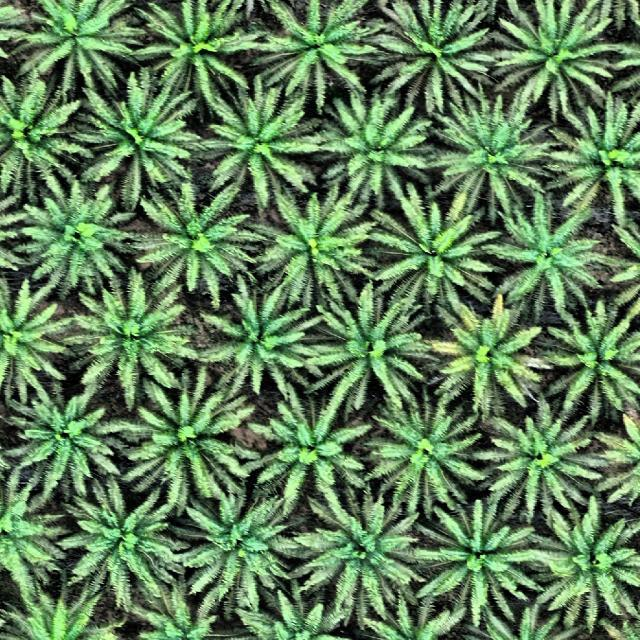Kelapa_Sawit: (426, 498, 546, 619), (72, 479, 183, 604), (75, 276, 189, 397), (253, 397, 370, 512), (166, 498, 290, 604), (486, 192, 597, 310), (316, 294, 432, 406), (133, 383, 244, 500), (148, 3, 258, 108), (214, 94, 320, 202), (438, 102, 544, 210), (308, 502, 418, 606), (383, 198, 486, 308), (539, 508, 640, 620), (508, 3, 612, 111), (394, 4, 497, 112), (153, 190, 256, 294), (264, 192, 367, 296), (323, 97, 425, 200), (30, 2, 136, 98), (272, 0, 372, 100), (31, 189, 130, 289), (500, 416, 596, 516), (100, 91, 191, 195), (216, 294, 310, 394), (388, 409, 480, 511), (23, 392, 118, 489), (447, 312, 541, 410), (558, 106, 640, 210), (558, 314, 640, 411), (1, 89, 76, 195), (0, 469, 59, 597), (3, 288, 55, 403), (8, 603, 104, 640), (604, 418, 640, 503), (247, 608, 336, 640), (366, 609, 454, 640), (145, 606, 217, 640), (493, 615, 579, 640)
